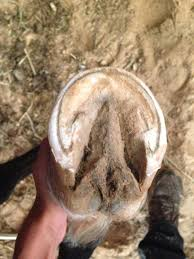horsesole: (46, 66, 168, 173)
